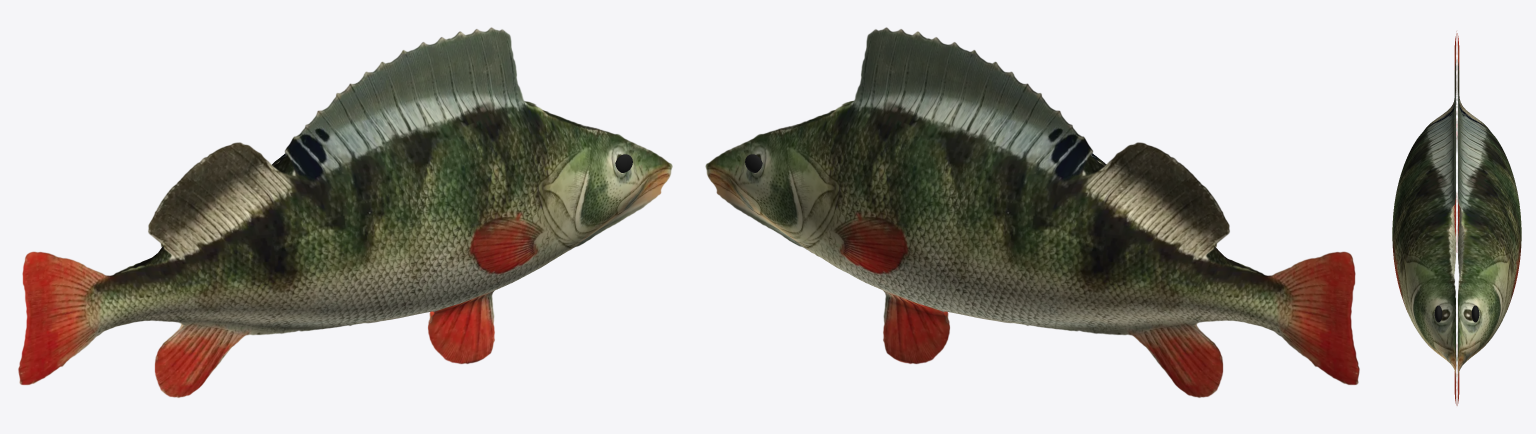
File: perche.glb
3 views of the same model, side by side, from view 1: azimuth 30°, elevation 25°; view 2: azimuth 150°, elevation 25°; view 3: azimuth 270°, elevation 25° (orthographic). The views are drawn at different scales.
Parts seen in each view (by area): view 1: perche; view 2: perche; view 3: perche.
Boxes of the visible parts, x1,y1,x2,y2 form: perche: (18,27,672,397); perche: (705,27,1359,397); perche: (1392,31,1521,405).
Size of the model in its own units: 1 by 0.4946 by 0.1976.
2 materials, 1 textured.
